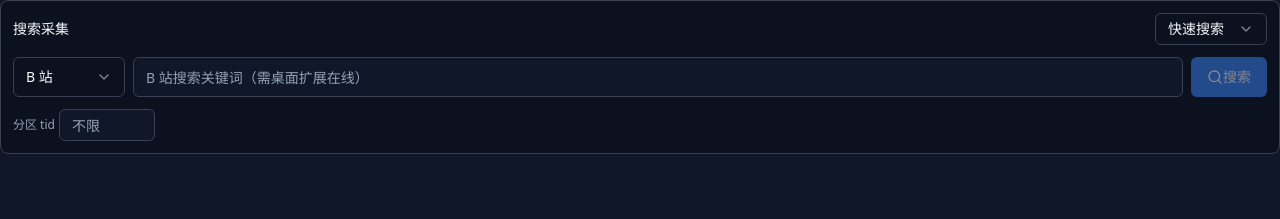
it: 采集模式切换：find 出条件表单藏快速搜索表单，切回 quick 恢复（两模式互斥）
Check: the field with placeholder "B 站搜索关键词（需桌面扩展在线）" is shown, box [133,57,1183,97]
Click the dropdown named "采集模式": (1211, 29) [1155,13,1267,45]
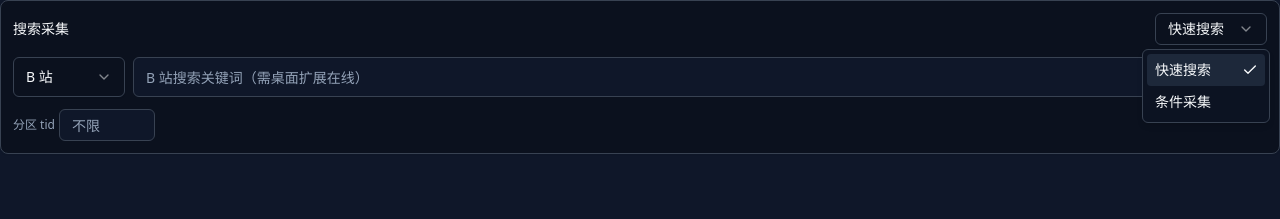
Click the option "条件采集": (1183, 102) [1155,92,1211,111]
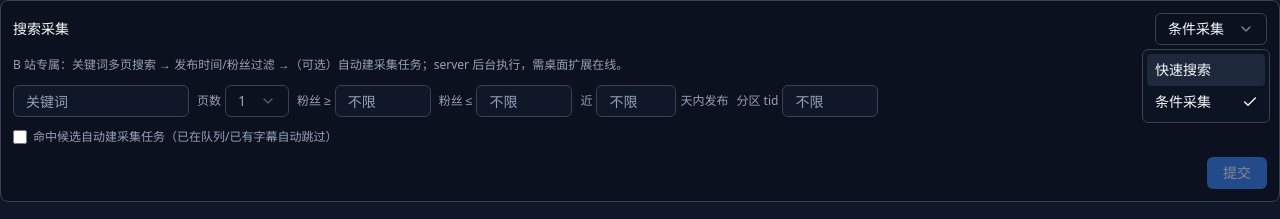
Check: the field with placeholder "B 站搜索关键词（需桌面扩展在线）" is not shown
Check: the field named "条件采集关键词" is shown, box [13,85,189,117]
Check: the dropdown labelled "搜索平台" is gone
Click the dropdown named "采集模式": (1211, 29) [1155,13,1267,45]
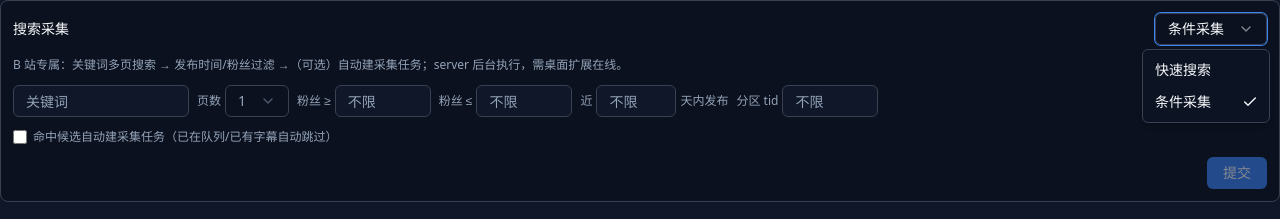
Click the option "快速搜索": (1183, 70) [1155,60,1211,79]
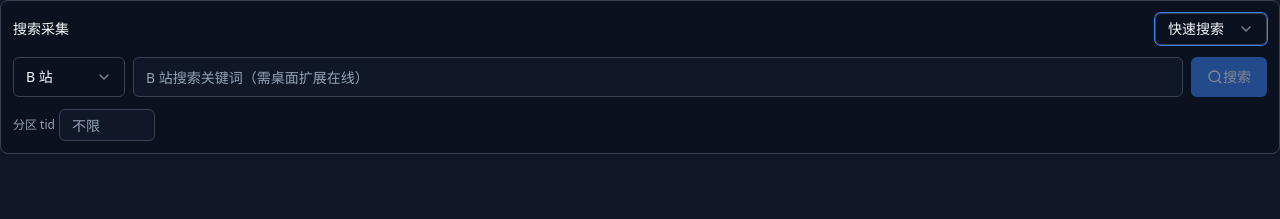
Check: the field with placeholder "B 站搜索关键词（需桌面扩展在线）" is shown, box [133,57,1183,97]
Check: the field labelled "条件采集关键词" is gone
